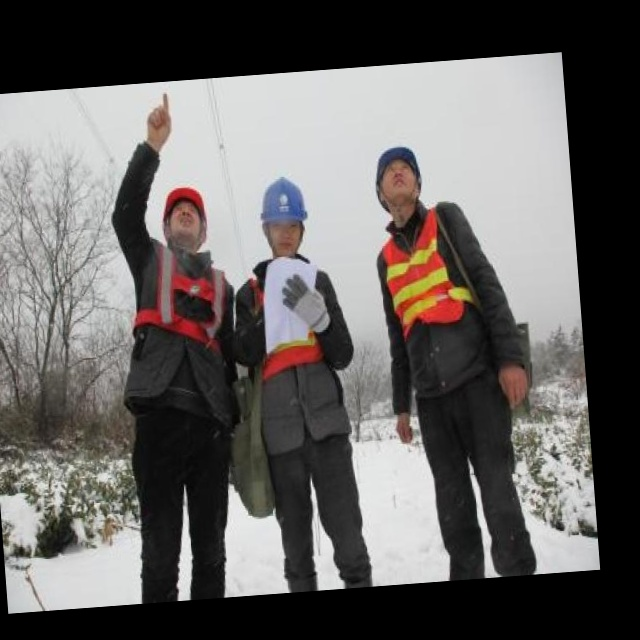Con_Chaleco: (377, 202, 474, 337)
